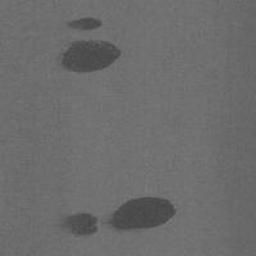Oil spot: (55, 196, 178, 238), (54, 38, 123, 74), (63, 15, 104, 32)
